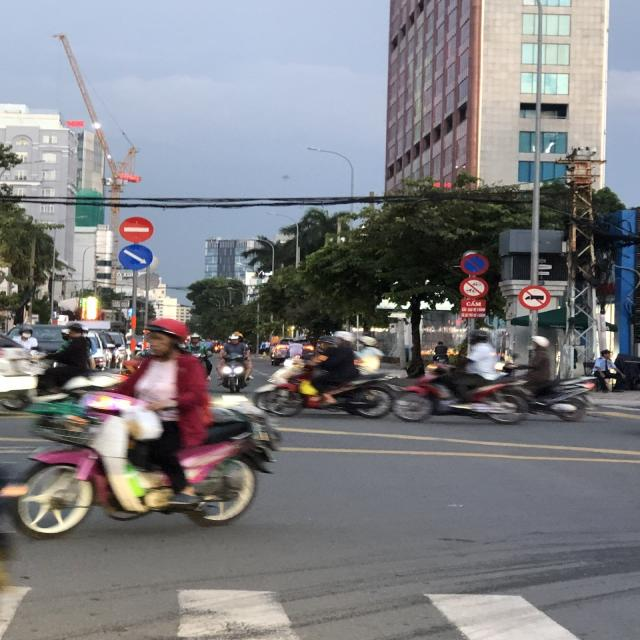Bien bao cam di nguoc chieu: (117, 214, 157, 244)
Bien bao cam do xe: (458, 252, 490, 277)
Bien bao cam xe so-mi ro-mooc: (516, 283, 552, 311)
Bien bao huong phai di vong chuong ngai vat: (116, 242, 155, 272)
